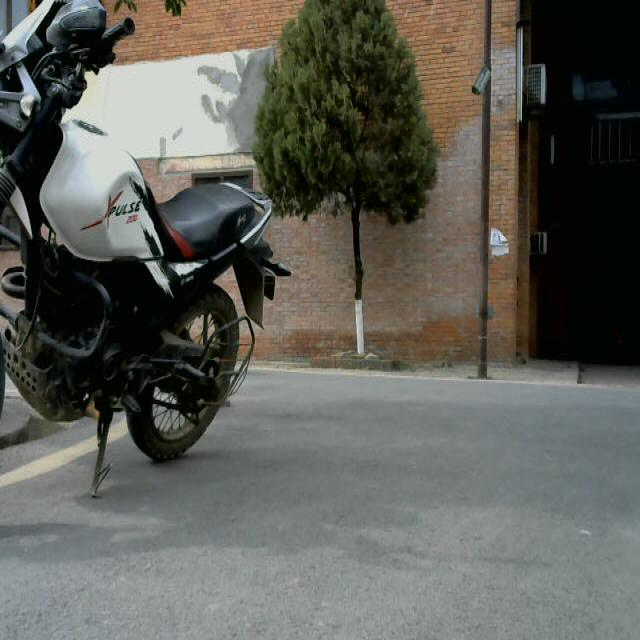Bike: (1, 2, 274, 526)
Pole: (471, 0, 504, 383)
Road: (154, 364, 639, 640)
trees: (268, 0, 437, 372)
